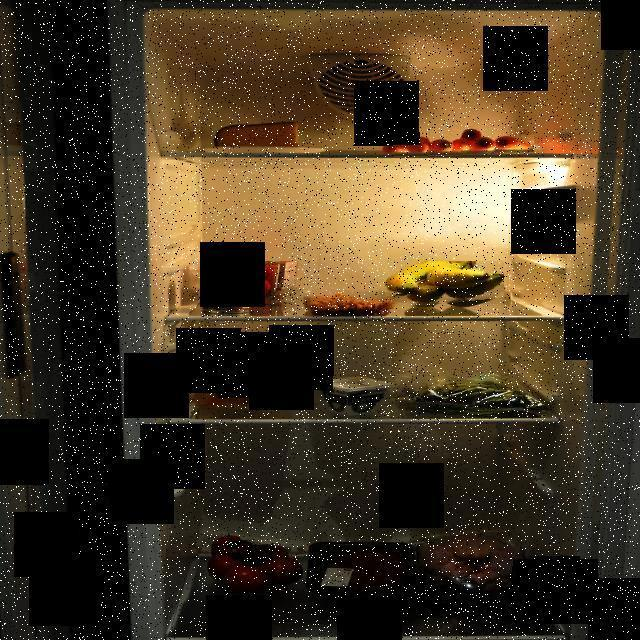banana: (380, 261, 504, 310)
beef: (331, 548, 405, 594)
carrot: (374, 128, 534, 158)
cheese: (213, 120, 310, 152)
chicken: (417, 532, 539, 604)
goat_cheese: (314, 376, 389, 415)
green_beans: (398, 372, 552, 418)
onion: (195, 348, 281, 404)
shrimp: (306, 292, 391, 316)
strawberries: (203, 261, 301, 311)
tomato: (206, 530, 305, 594)
